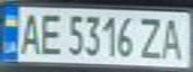1: (100, 12, 121, 57)
3: (81, 11, 103, 56)
5: (63, 11, 84, 56)
6: (115, 12, 139, 59)
A: (157, 15, 190, 62), (15, 9, 42, 56)
E: (36, 10, 63, 56)
Z: (136, 15, 166, 61)
